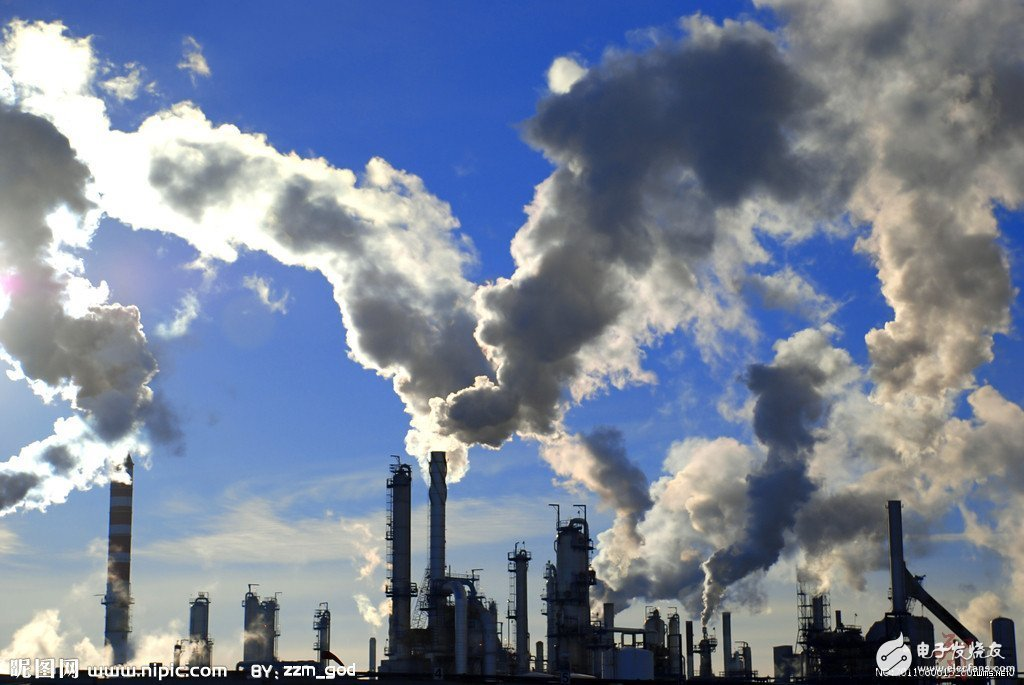dust: (210, 132, 472, 486), (839, 70, 1013, 508), (398, 158, 623, 472), (6, 112, 168, 478), (679, 350, 827, 627), (574, 436, 736, 620)
